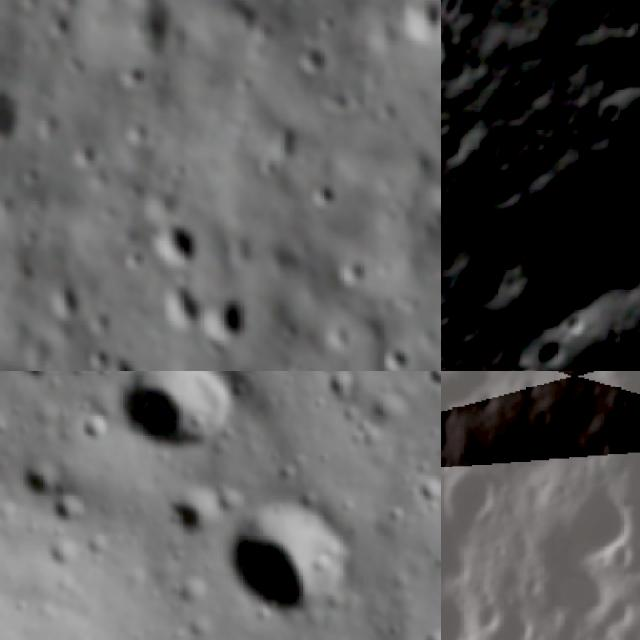crater: (215, 482, 371, 620), (105, 371, 251, 458), (549, 483, 634, 571), (139, 200, 204, 278), (441, 457, 507, 533), (583, 309, 640, 371), (146, 277, 208, 332), (469, 601, 546, 640), (162, 486, 217, 533), (202, 297, 249, 349), (552, 300, 602, 348), (0, 77, 27, 161), (526, 326, 575, 371), (318, 75, 365, 121), (590, 91, 630, 134), (305, 170, 344, 212), (45, 488, 87, 523), (292, 40, 332, 75), (376, 337, 416, 371), (314, 371, 357, 401), (408, 470, 441, 509), (75, 407, 104, 442), (10, 371, 81, 384), (409, 622, 441, 640), (420, 371, 441, 389), (329, 631, 352, 640)
